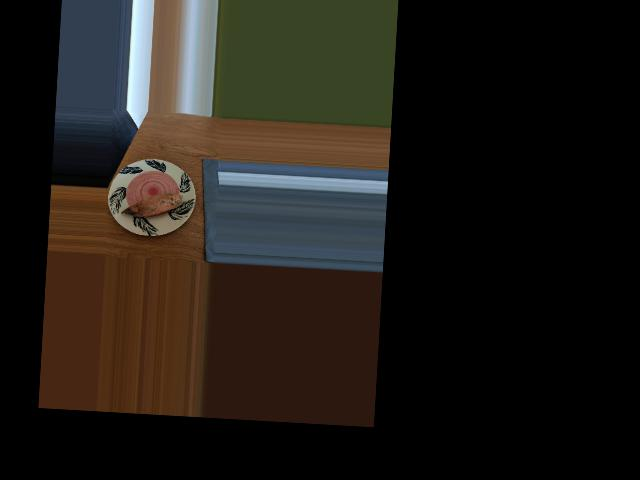sweet_potato: (126, 187, 181, 223)
